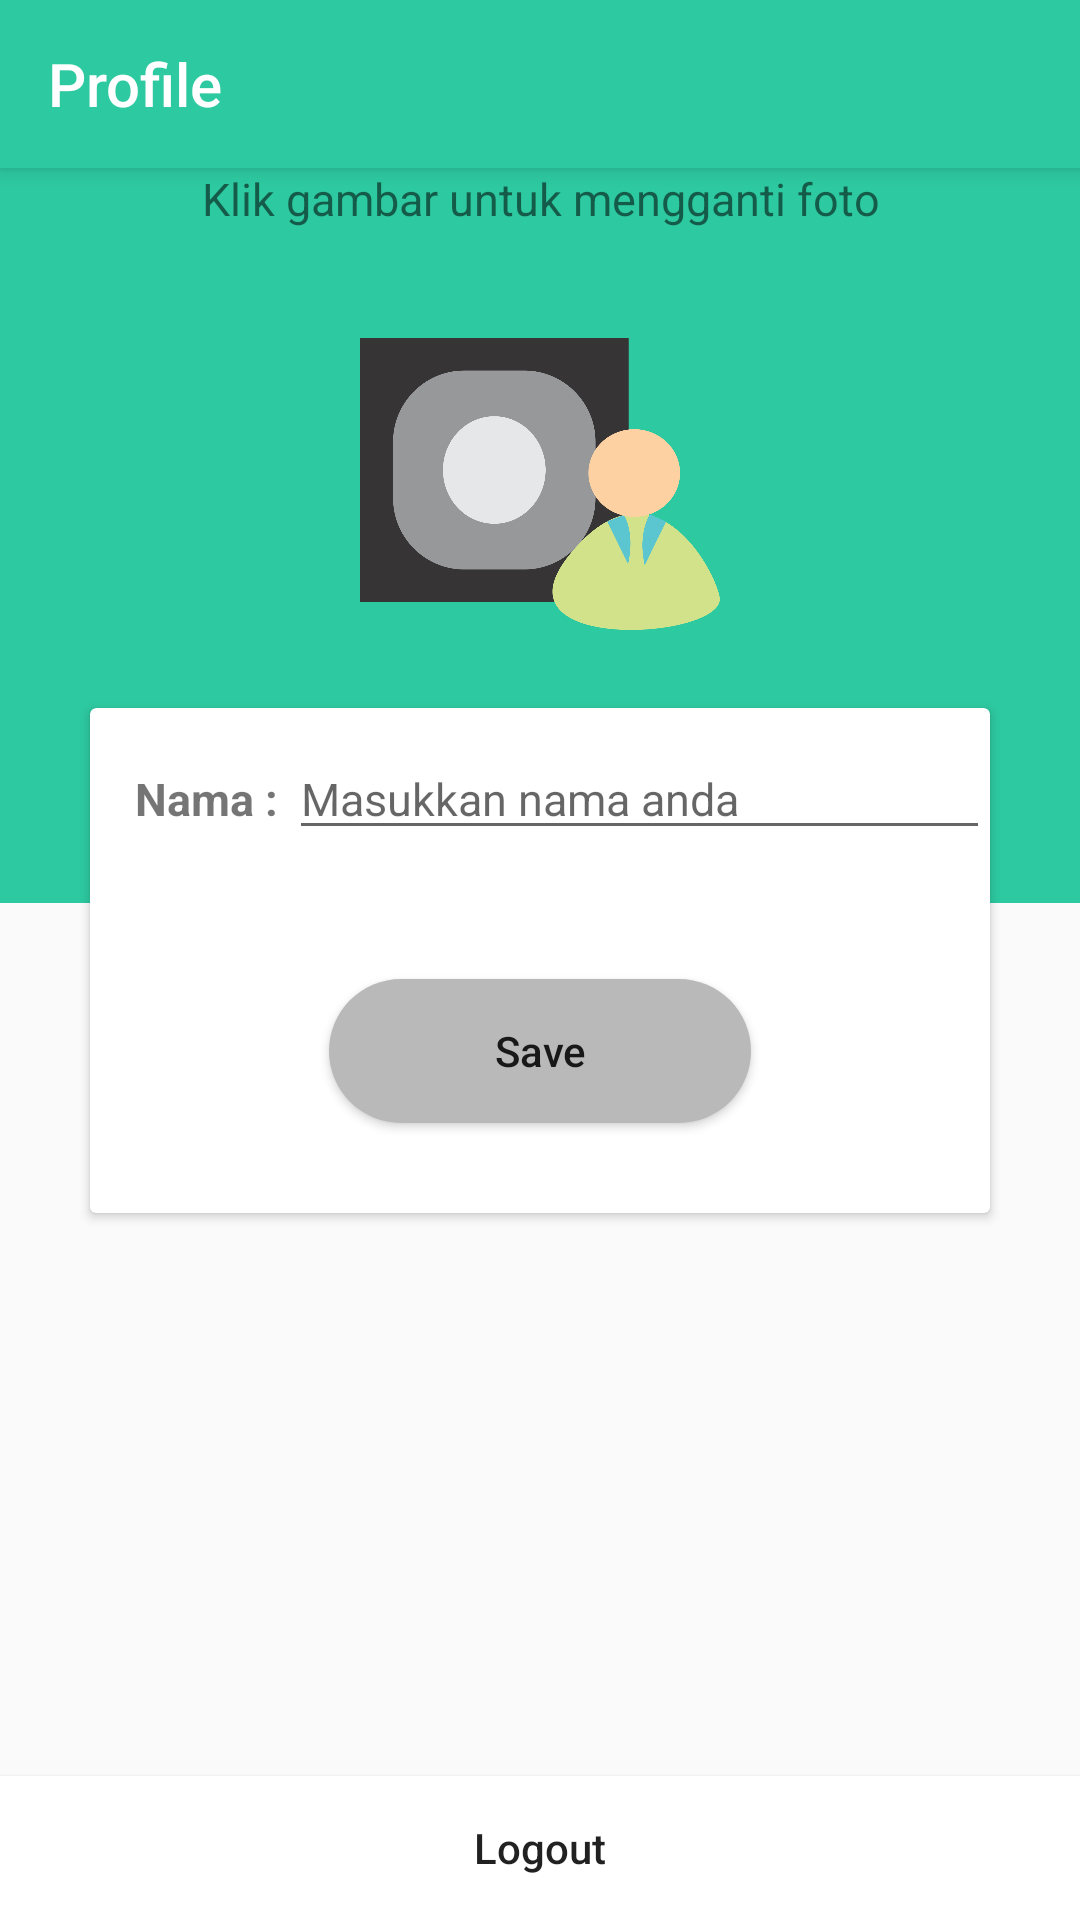

Icons on this 1080w x 1920h Android screen, each with the point to tap as (x,y):
profile: (540,484)
